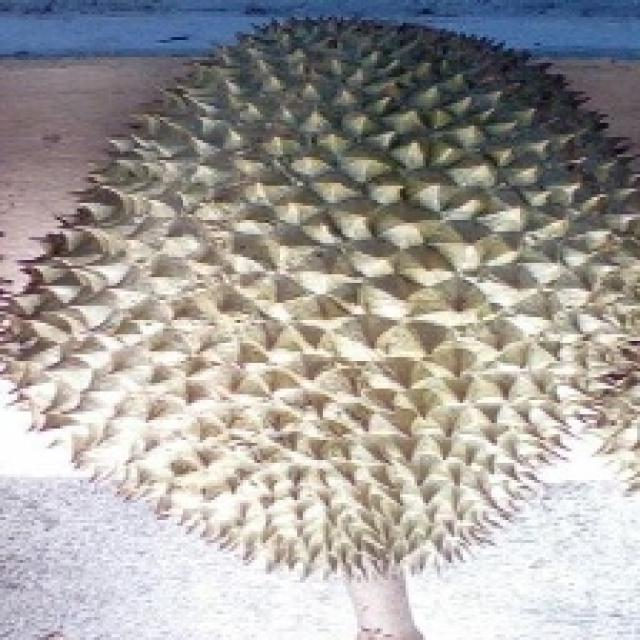d2: (31, 23, 640, 554)
